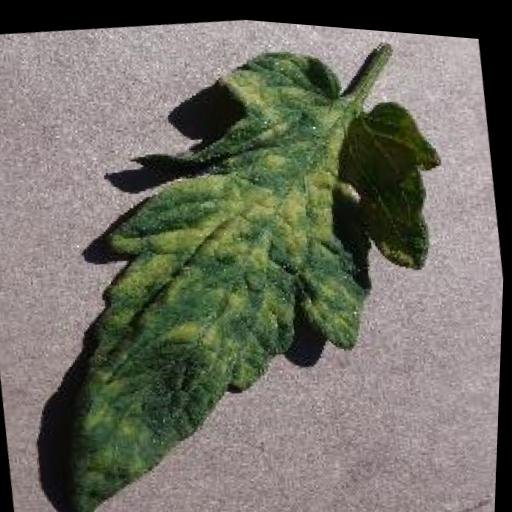Leaf Mold: (3, 7, 493, 512)
